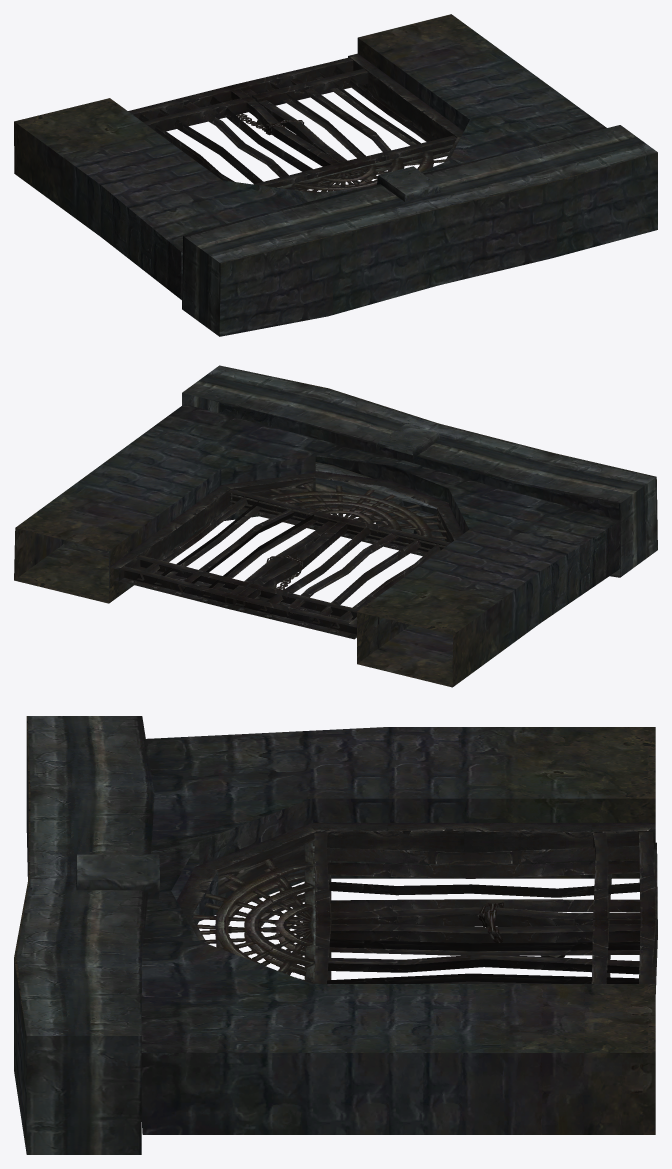
File: tanxian_fuben_257_laolong_01.obj
The picture shows the model from 3 angles, top to bottom: view 1: azimuth 30°, elevation 25°; view 2: azimuth 150°, elevation 25°; view 3: azimuth 270°, elevation 25°; orthographic projection. The views are drawn at different scales.
Parts seen in each view (by area): view 1: tanxian_fuben_257_laolong_01; view 2: tanxian_fuben_257_laolong_01; view 3: tanxian_fuben_257_laolong_01.
Part boxes in pixels (<box>): tanxian_fuben_257_laolong_01: <box>14,14,657,336</box>; tanxian_fuben_257_laolong_01: <box>14,365,657,687</box>; tanxian_fuben_257_laolong_01: <box>14,716,657,1154</box>.
Bounding box in the file's own units: 384 × 74.96 × 319.
Materials: 3 (3 with a texture image).
